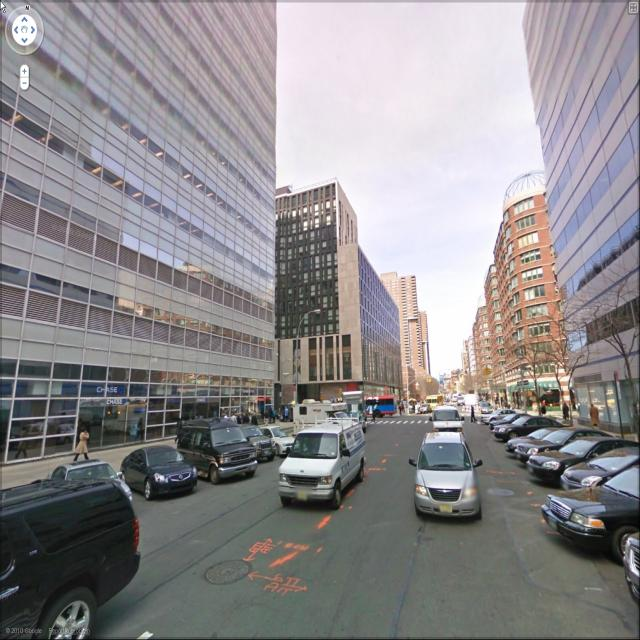b_1: (2, 1, 296, 402), (522, 4, 640, 440), (284, 185, 356, 408), (514, 170, 566, 416), (350, 254, 401, 404), (396, 260, 438, 404), (484, 257, 516, 410), (460, 300, 493, 392)
